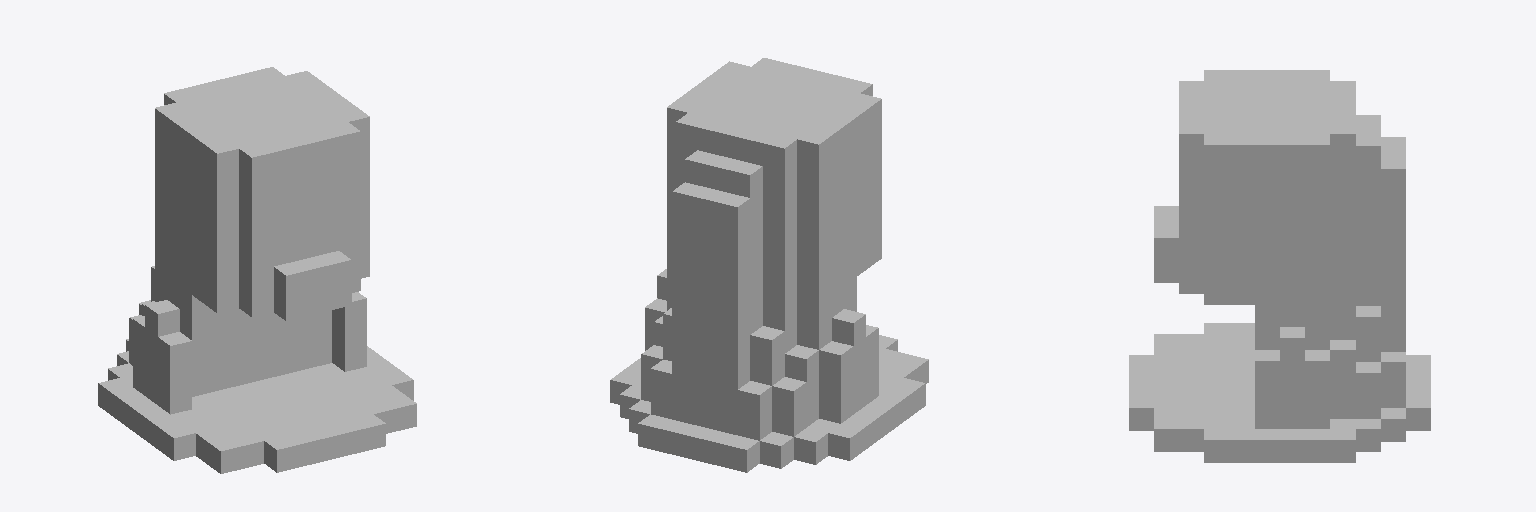
File: 3D Voxel Office Pack-13.obj
3 views of the same model, side by side, from view 1: azimuth 30°, elevation 25°; view 2: azimuth 150°, elevation 25°; view 3: azimuth 270°, elevation 25° (orthographic).
Visible parts, largest first — view 1: object 1; view 2: object 1; view 3: object 1.
Boxes of the visible parts, x1=… form: object 1: x1=98, y1=67, x2=416, y2=473; object 1: x1=610, y1=58, x2=928, y2=472; object 1: x1=1129, y1=70, x2=1430, y2=462.
Size of the model in its own units: 1.1 by 1.3 by 1.2.